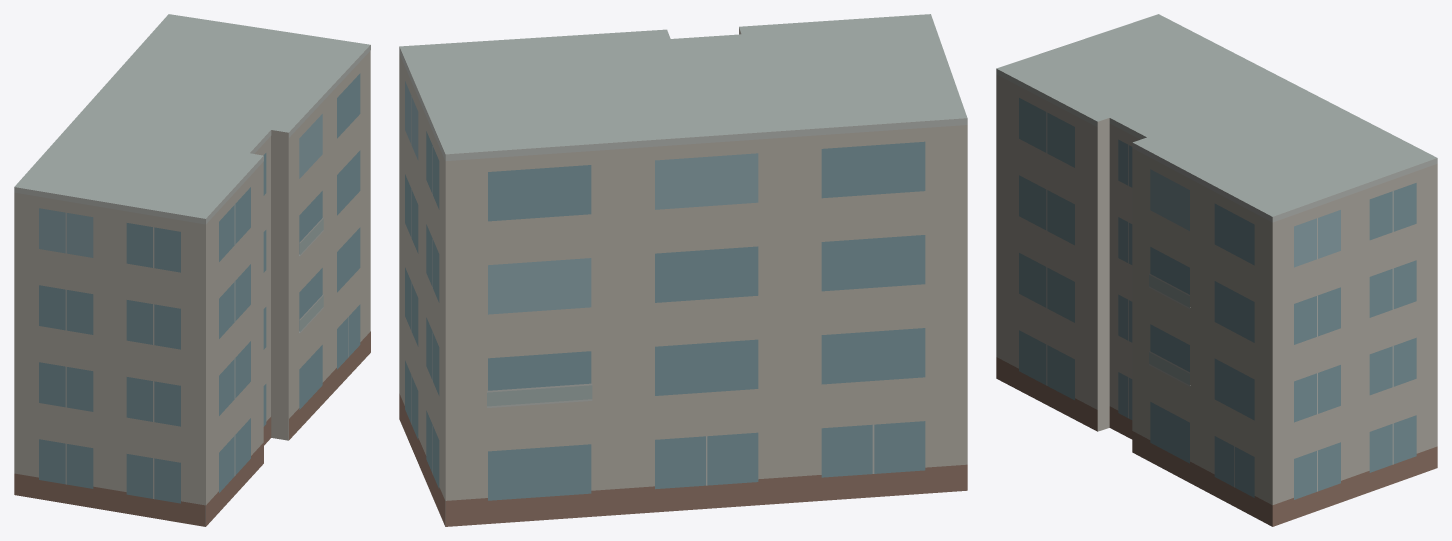
File: survey-upis-32707237.glb
3 views of the same model, side by side, from view 1: azimuth 30°, elevation 25°; view 2: azimuth 150°, elevation 25°; view 3: azimuth 270°, elevation 25° (orthographic). The views are drawn at different scales.
Parts seen in each view (by area): view 1: survey-upis-32707237.tmp; view 2: survey-upis-32707237.tmp; view 3: survey-upis-32707237.tmp.
Part boxes in pixels (x1=…): survey-upis-32707237.tmp: x1=14, y1=14, x2=370, y2=526; survey-upis-32707237.tmp: x1=399, y1=14, x2=967, y2=526; survey-upis-32707237.tmp: x1=996, y1=14, x2=1437, y2=526.
Size of the model in its own units: 18.75 by 13.35 by 17.24.
